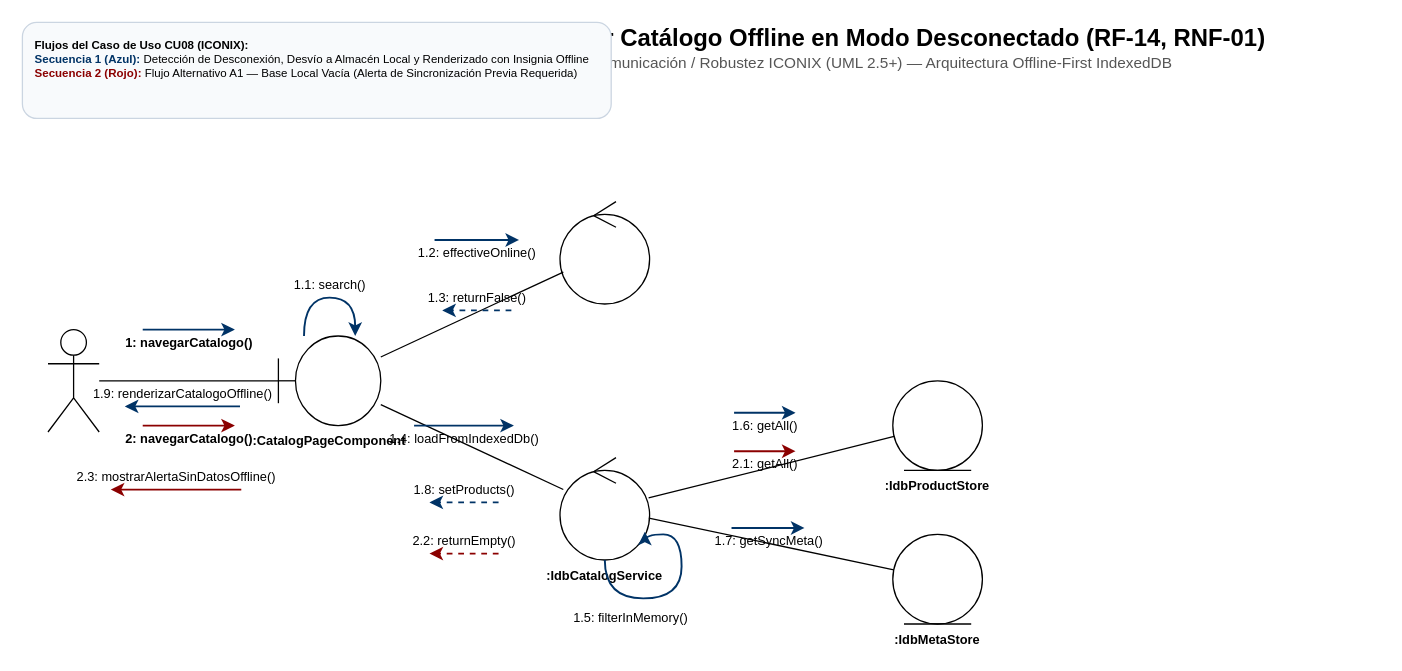
Image size: 1402x671. Some labels were removed from this diagram. Each missing label, with the centre of its shape:
":Cajero" goes at (73,380).
":NetworkStatusService" goes at (604,252).
